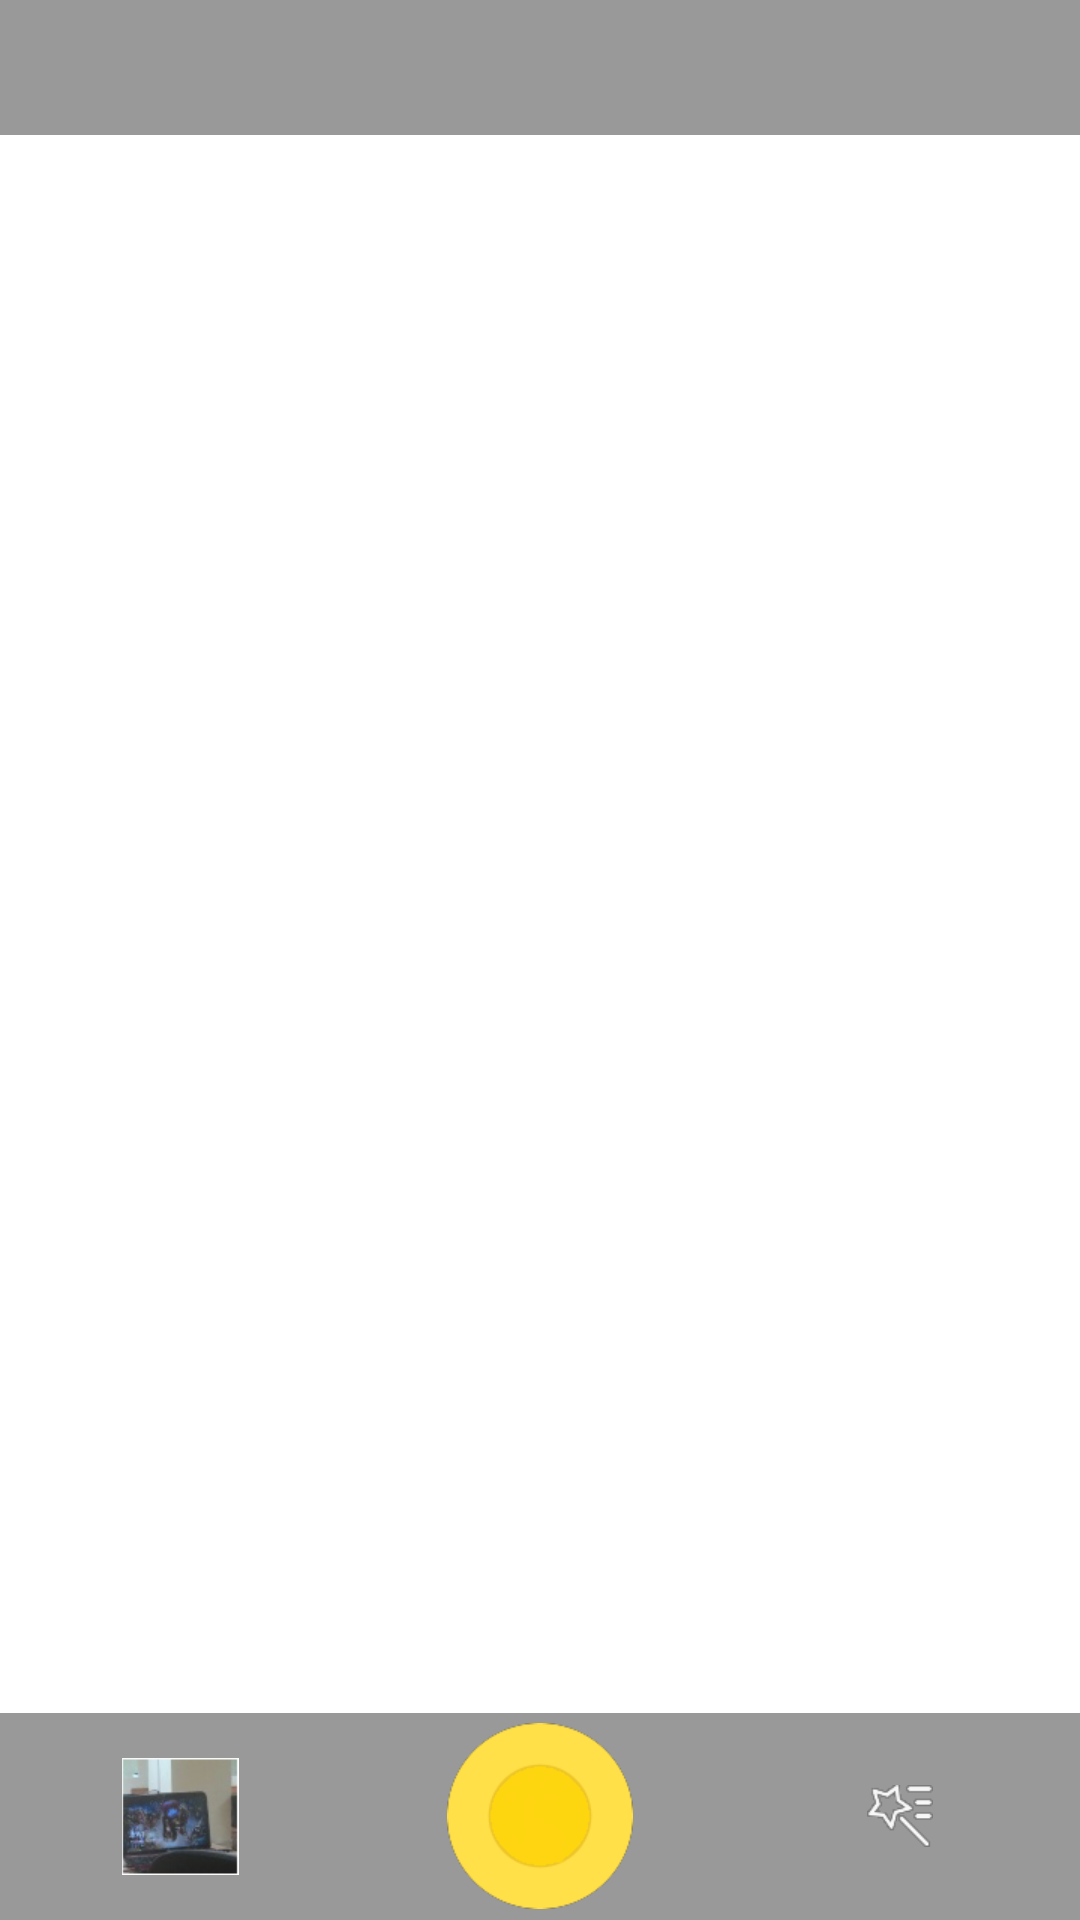

Icon bounding boxes for this 1080 × 1920 phone screenshot, format (x1, y1, x2, y2):
capture: (447, 1723, 633, 1909)
photo: (122, 1758, 239, 1875)
photo effect: (867, 1785, 933, 1847)
